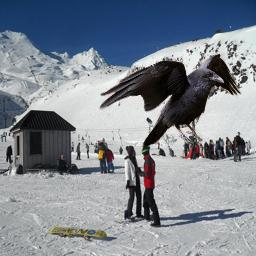Crow: (98, 53, 242, 147)
